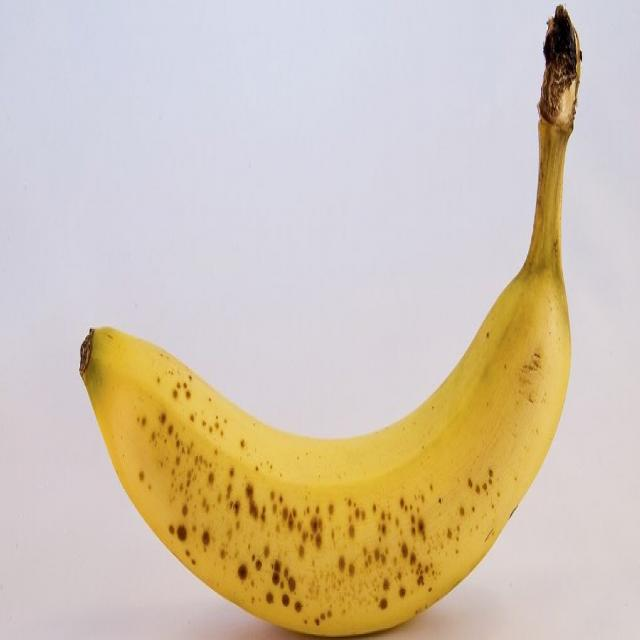Banana: (72, 10, 581, 640)
